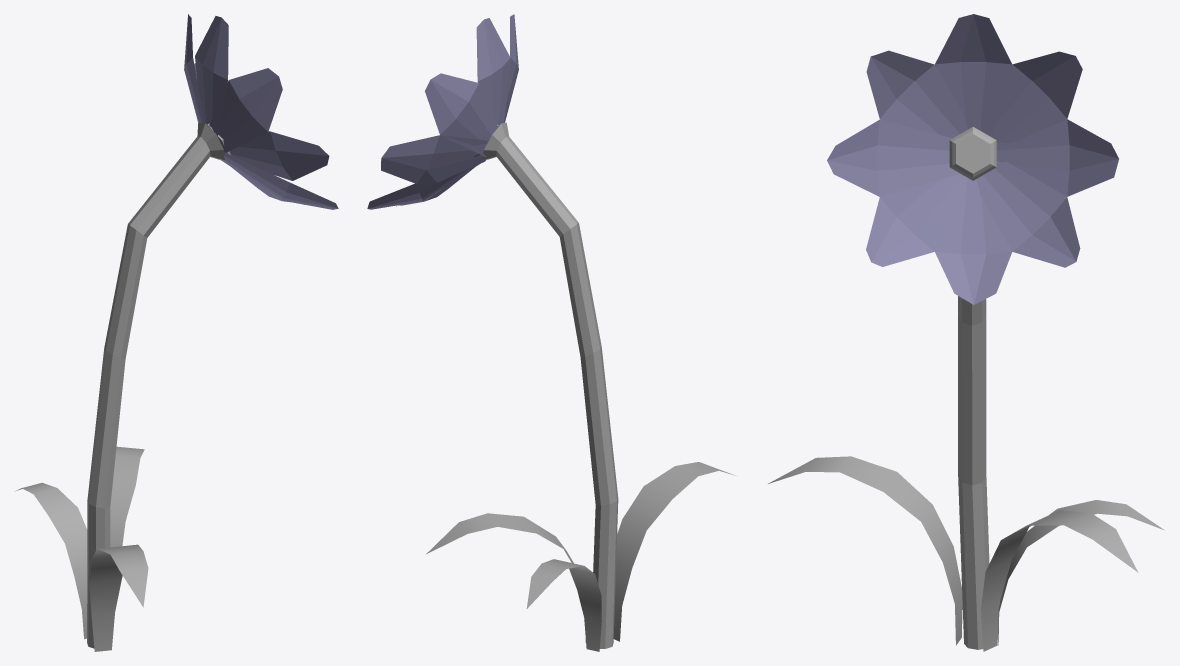
File: Flores var1.fbx
3 renders of one model, left to right at view 1: azimuth 30°, elevation 25°; view 2: azimuth 150°, elevation 25°; view 3: azimuth 270°, elevation 25°, orthographic. The views are drawn at different scales.
Visible parts, largest first — view 1: petalas_geo, caule_geo, mato_geo1; view 2: caule_geo, petalas_geo, mato_geo1; view 3: petalas_geo, mato_geo1, caule_geo, botao_geo.
Boxes of the visible parts, box(x1,y1,x2,y2) form: petalas_geo: box(184, 14, 338, 209); caule_geo: box(87, 122, 224, 648); mato_geo1: box(15, 446, 148, 651); caule_geo: box(482, 122, 618, 648); petalas_geo: box(367, 14, 518, 209); mato_geo1: box(426, 462, 734, 651); petalas_geo: box(827, 14, 1118, 304); mato_geo1: box(768, 456, 1164, 651); caule_geo: box(958, 296, 989, 649); botao_geo: box(949, 127, 996, 180).
Bounding box in the file's own units: 0.6612 × 1.49 × 0.7724.
